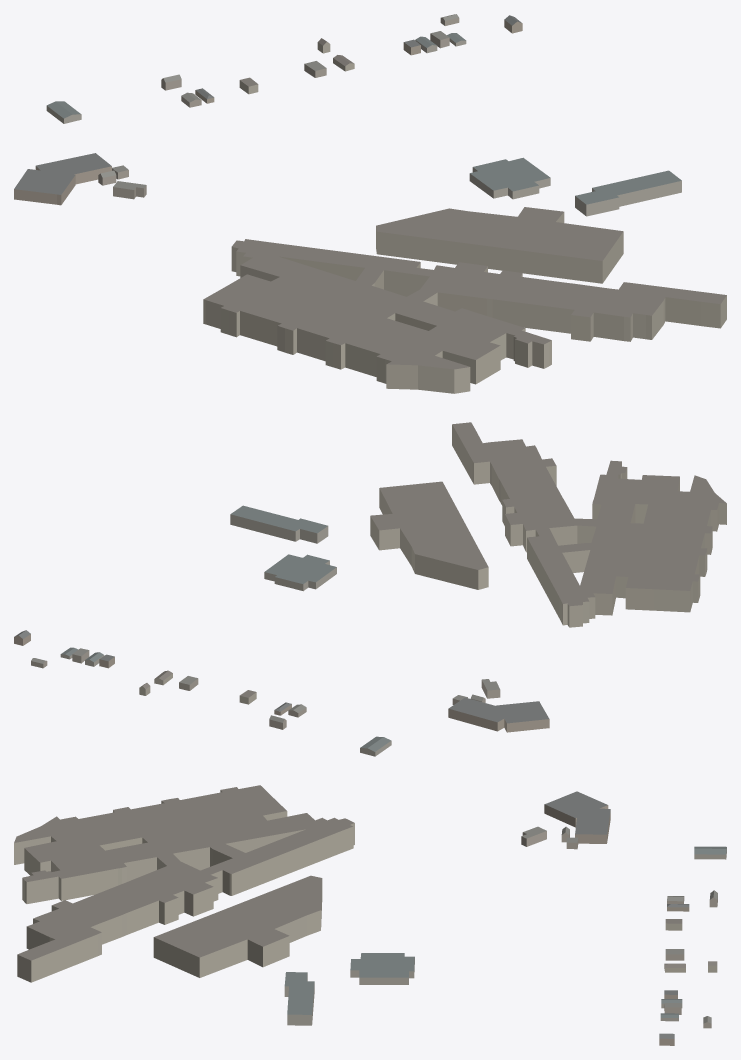
File: 9e79dbcba209-chunk-1196_11839.glb
The picture shows the model from 3 angles, top to bottom: view 1: azimuth 30°, elevation 25°; view 2: azimuth 150°, elevation 25°; view 3: azimuth 270°, elevation 25°; orthographic projection. The views are drawn at different scales.
Parts seen in each view (by area): view 1: building_154070, building_45549, building_65875, building_26775, building_102392; view 2: building_154070, building_45549, building_65875, building_26775, building_102392; view 3: building_154070, building_45549, building_65875, building_102392, building_26775, building_159534.
Part boxes in pixels (x1,y1,x2,y2): building_154070: (203, 239, 726, 393); building_45549: (376, 207, 623, 283); building_65875: (14, 153, 111, 205); building_26775: (575, 170, 681, 216); building_102392: (469, 157, 550, 199); building_154070: (452, 422, 726, 627); building_45549: (370, 481, 488, 589); building_65875: (448, 697, 549, 732); building_26775: (230, 505, 328, 543); building_102392: (264, 554, 336, 591); building_154070: (14, 785, 354, 982); building_45549: (153, 875, 322, 977); building_65875: (544, 791, 610, 843); building_102392: (350, 953, 414, 984); building_26775: (284, 972, 314, 1025); building_159534: (694, 846, 726, 859).
Size of the model in its own units: 409 by 17.19 by 503.
